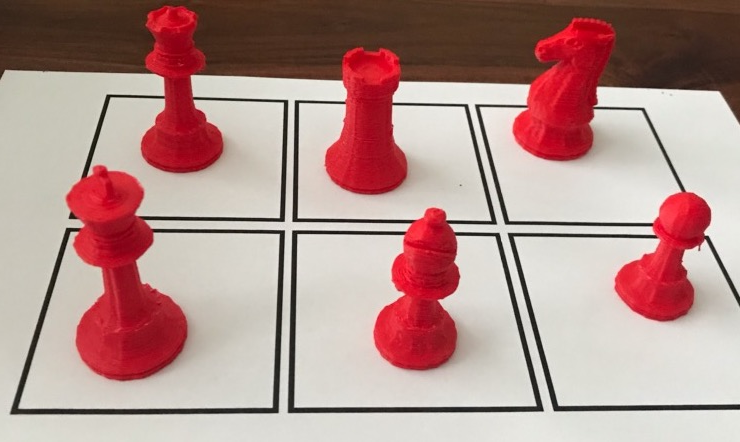Red Bishop: (367, 202, 473, 373)
Red Castle: (318, 41, 420, 203)
Red King: (58, 158, 200, 383)
Red Knight: (502, 13, 630, 174)
Red Pawn: (609, 188, 713, 329)
Red Queen: (133, 2, 229, 177)
